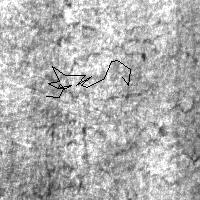crazing: (27, 16, 167, 65), (27, 46, 149, 101), (46, 60, 130, 97)
